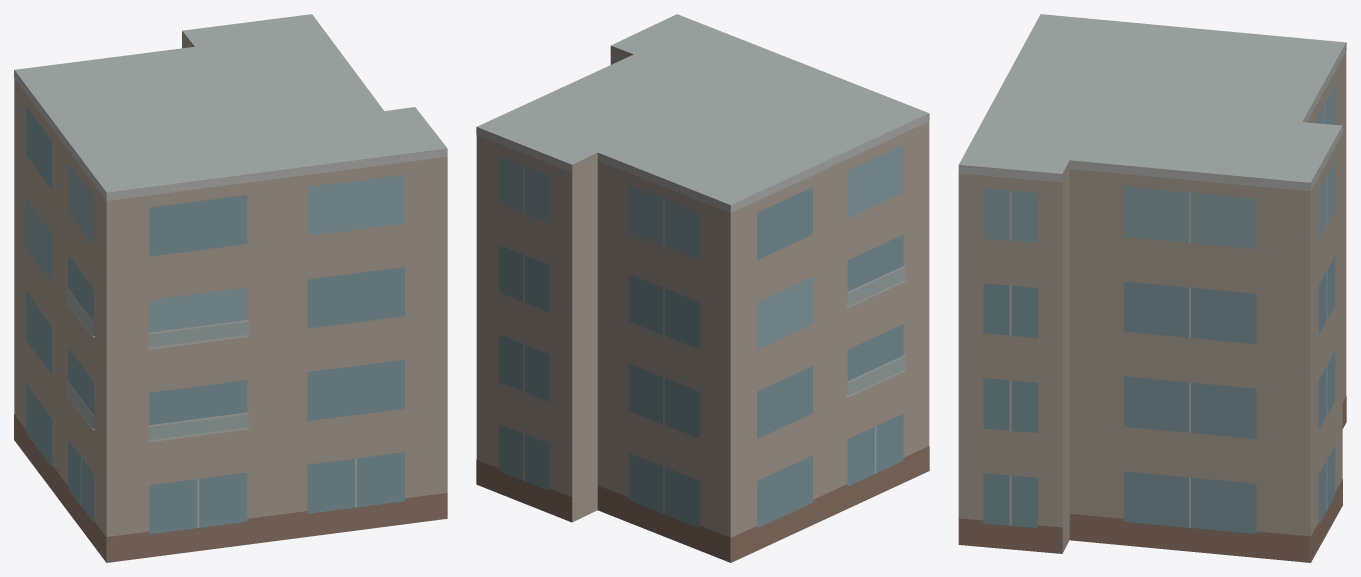
File: survey-upis-32710666.glb
3 views of the same model, side by side, from view 1: azimuth 30°, elevation 25°; view 2: azimuth 150°, elevation 25°; view 3: azimuth 270°, elevation 25° (orthographic). The views are drawn at different scales.
Parts seen in each view (by area): view 1: survey-upis-32710666.tmp; view 2: survey-upis-32710666.tmp; view 3: survey-upis-32710666.tmp.
Part boxes in pixels (x1,y1,x2,y2): survey-upis-32710666.tmp: (14, 14, 447, 562); survey-upis-32710666.tmp: (476, 14, 929, 562); survey-upis-32710666.tmp: (958, 14, 1346, 562).
Size of the model in its own units: 10.3 by 10.8 by 10.
